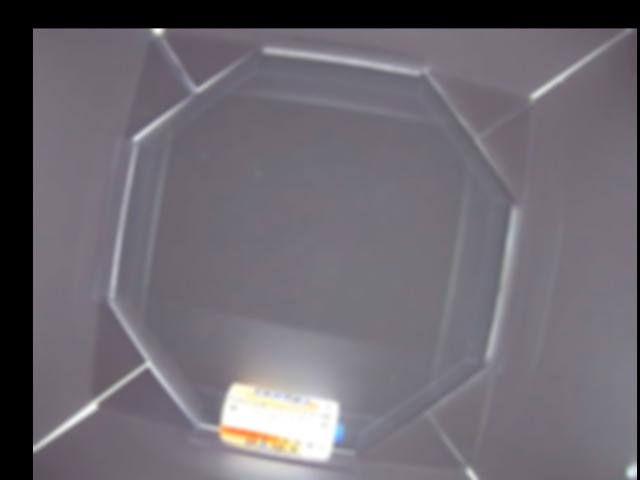Battery: (219, 385, 342, 461)
